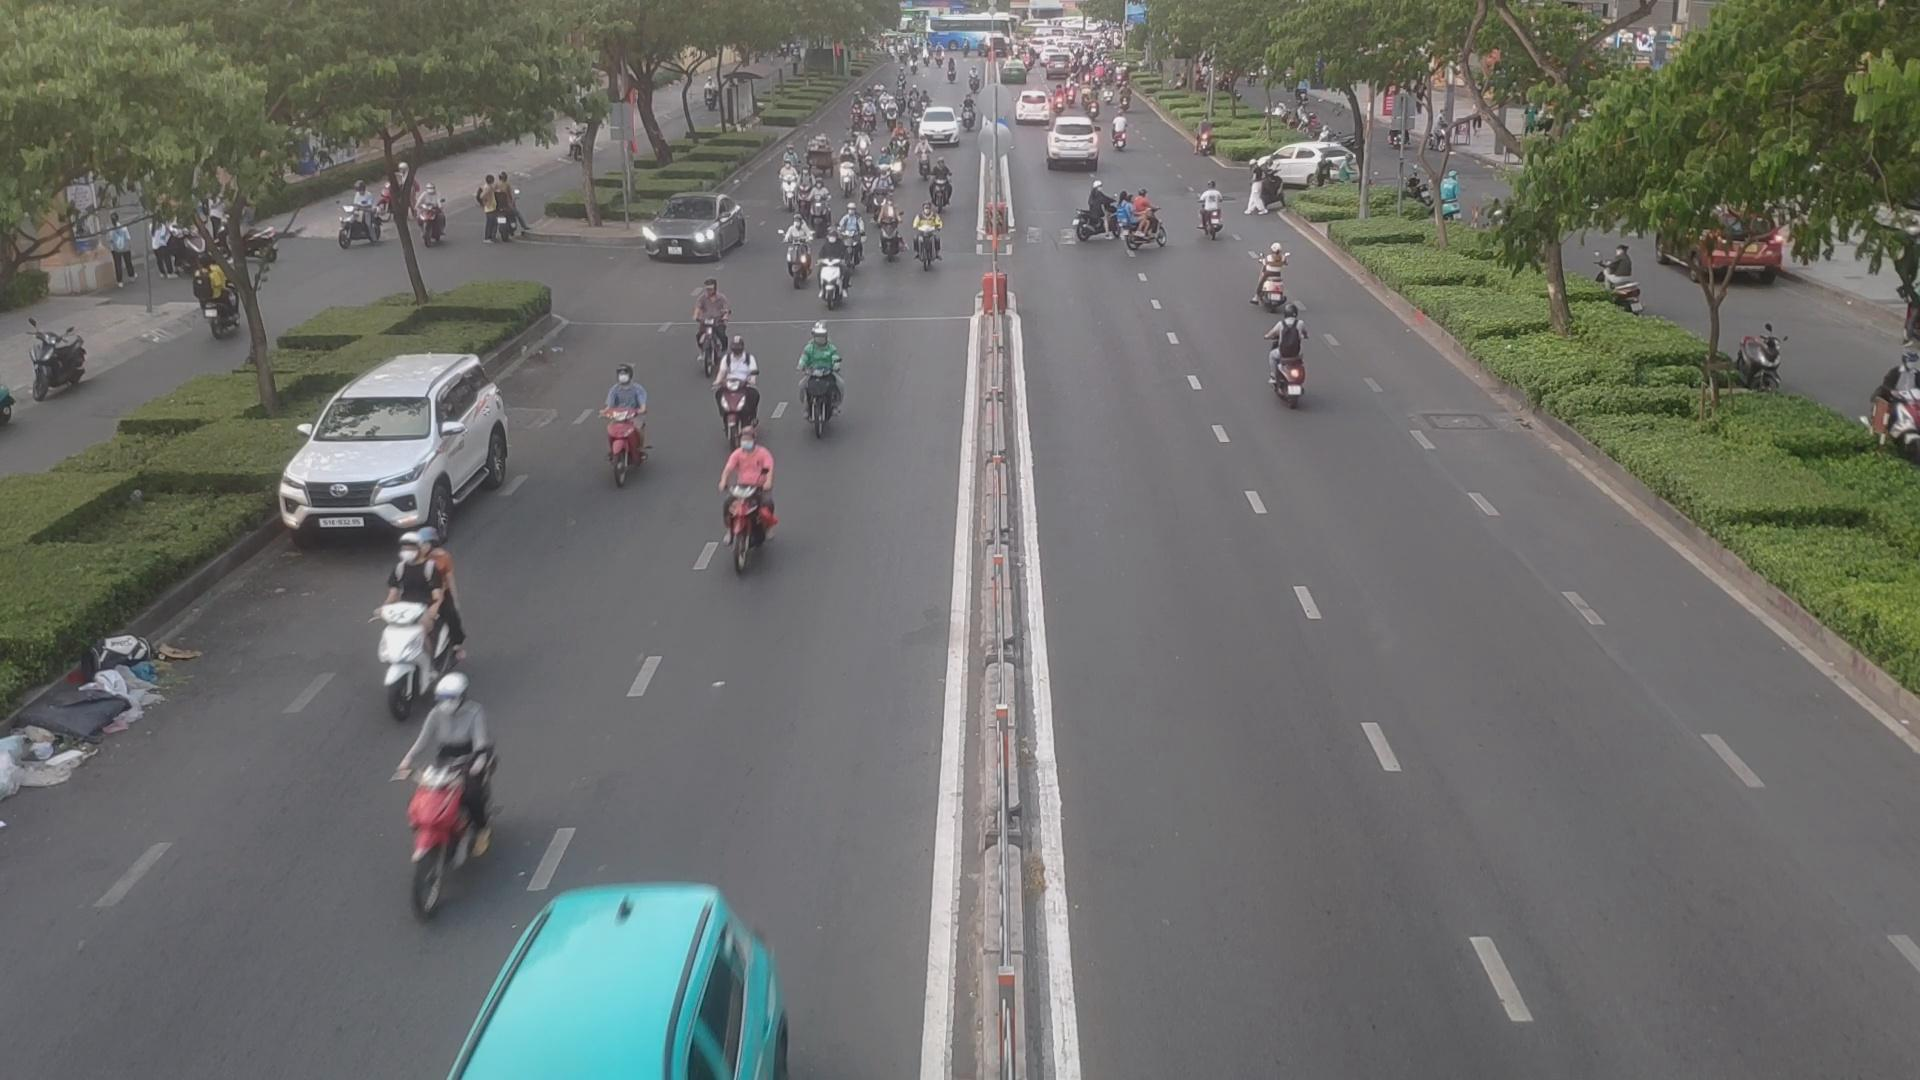car: (274, 352, 512, 538), (640, 194, 749, 261), (1257, 142, 1360, 189), (1044, 121, 1096, 167)
motorbike: (401, 663, 483, 945), (371, 543, 479, 700), (724, 427, 779, 568), (601, 365, 653, 500), (713, 331, 767, 444), (1255, 309, 1312, 415), (793, 316, 847, 413), (690, 262, 735, 378), (1120, 193, 1175, 260), (1068, 186, 1124, 243), (1251, 241, 1284, 318), (779, 224, 818, 287), (818, 233, 852, 302), (1197, 185, 1229, 253), (920, 204, 945, 262), (808, 187, 832, 241), (839, 198, 857, 260), (890, 142, 913, 193), (928, 160, 955, 202), (796, 169, 819, 214), (880, 203, 897, 258), (778, 166, 796, 208), (858, 157, 872, 211), (913, 136, 926, 181), (855, 129, 870, 164), (843, 152, 853, 195), (876, 167, 884, 210)
